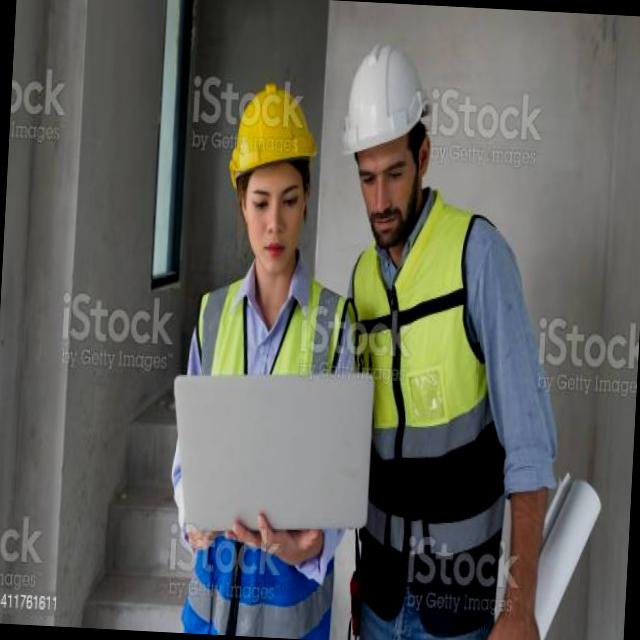helmet: (338, 33, 440, 164), (218, 77, 325, 184)
no-goggles: (228, 163, 324, 218), (346, 151, 428, 198)
vest: (348, 195, 480, 472), (181, 256, 349, 450)
